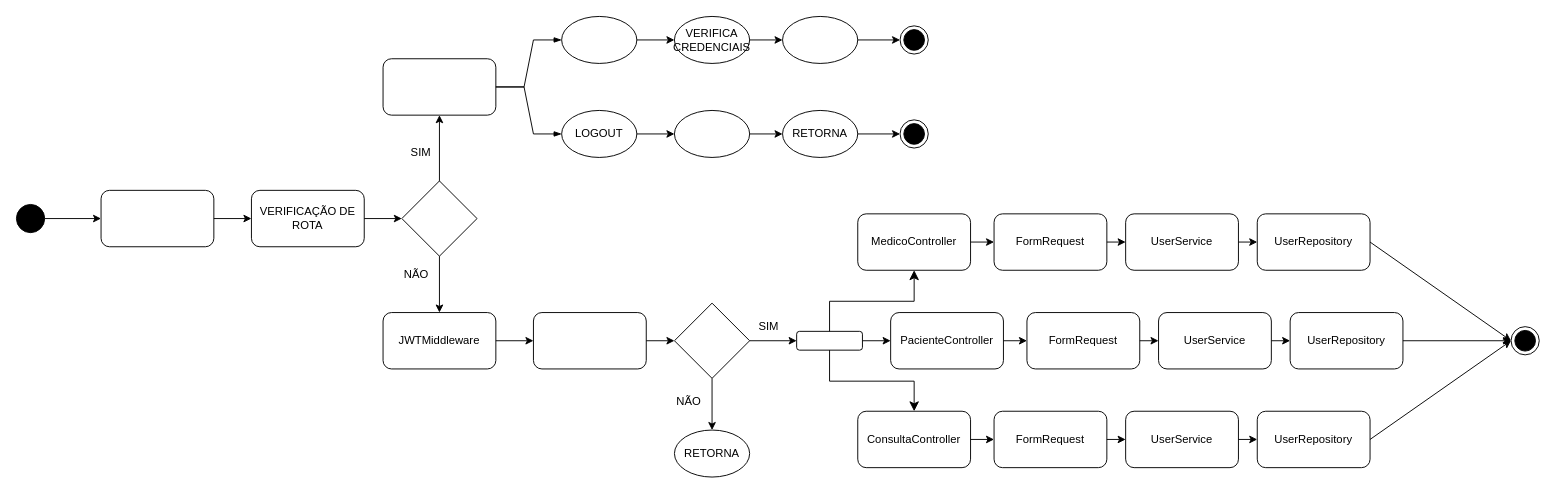
The diagram is 1556 pixels wide and 494 high, and some of its shapes have lost their labels. The centre of each missing label's shape, as x and y in pixels:
"AuthController" belongs at [439,86].
"GERA TOKEN" belongs at [820,39].
"INVALIDA TOKEN" belongs at [712,133].
"LOGIN" belongs at [599,39].
"LOGIN / LOGOUT" belongs at [439,218].
"USUÁRIO ENVIA REQUISIÇÃO" belongs at [157,218].
"Verifica JWT Token" belongs at [589,340].
"VÁLIDO?" belongs at [712,340].
